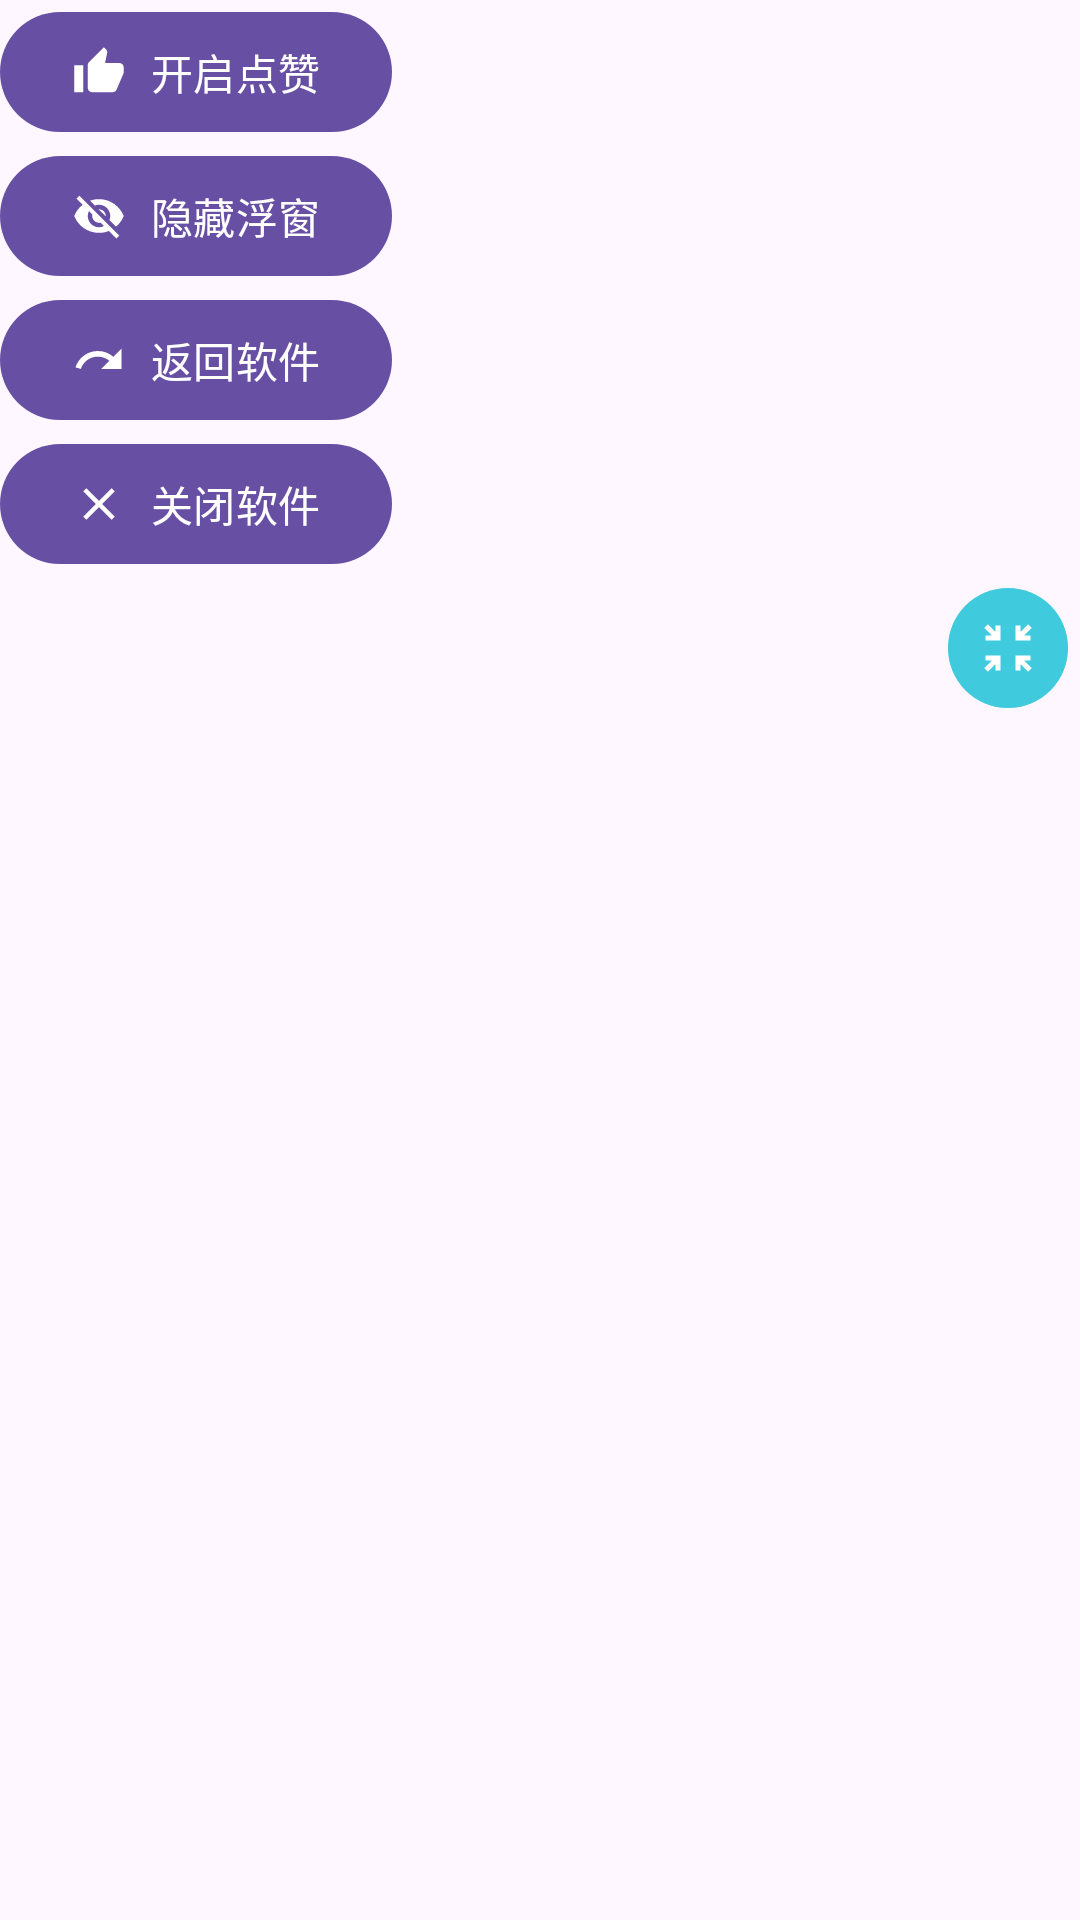

Icons on this 1080w x 1920h Android screen, each with the point to tap as point (x, y):
收起浮窗: point (1008, 648)
